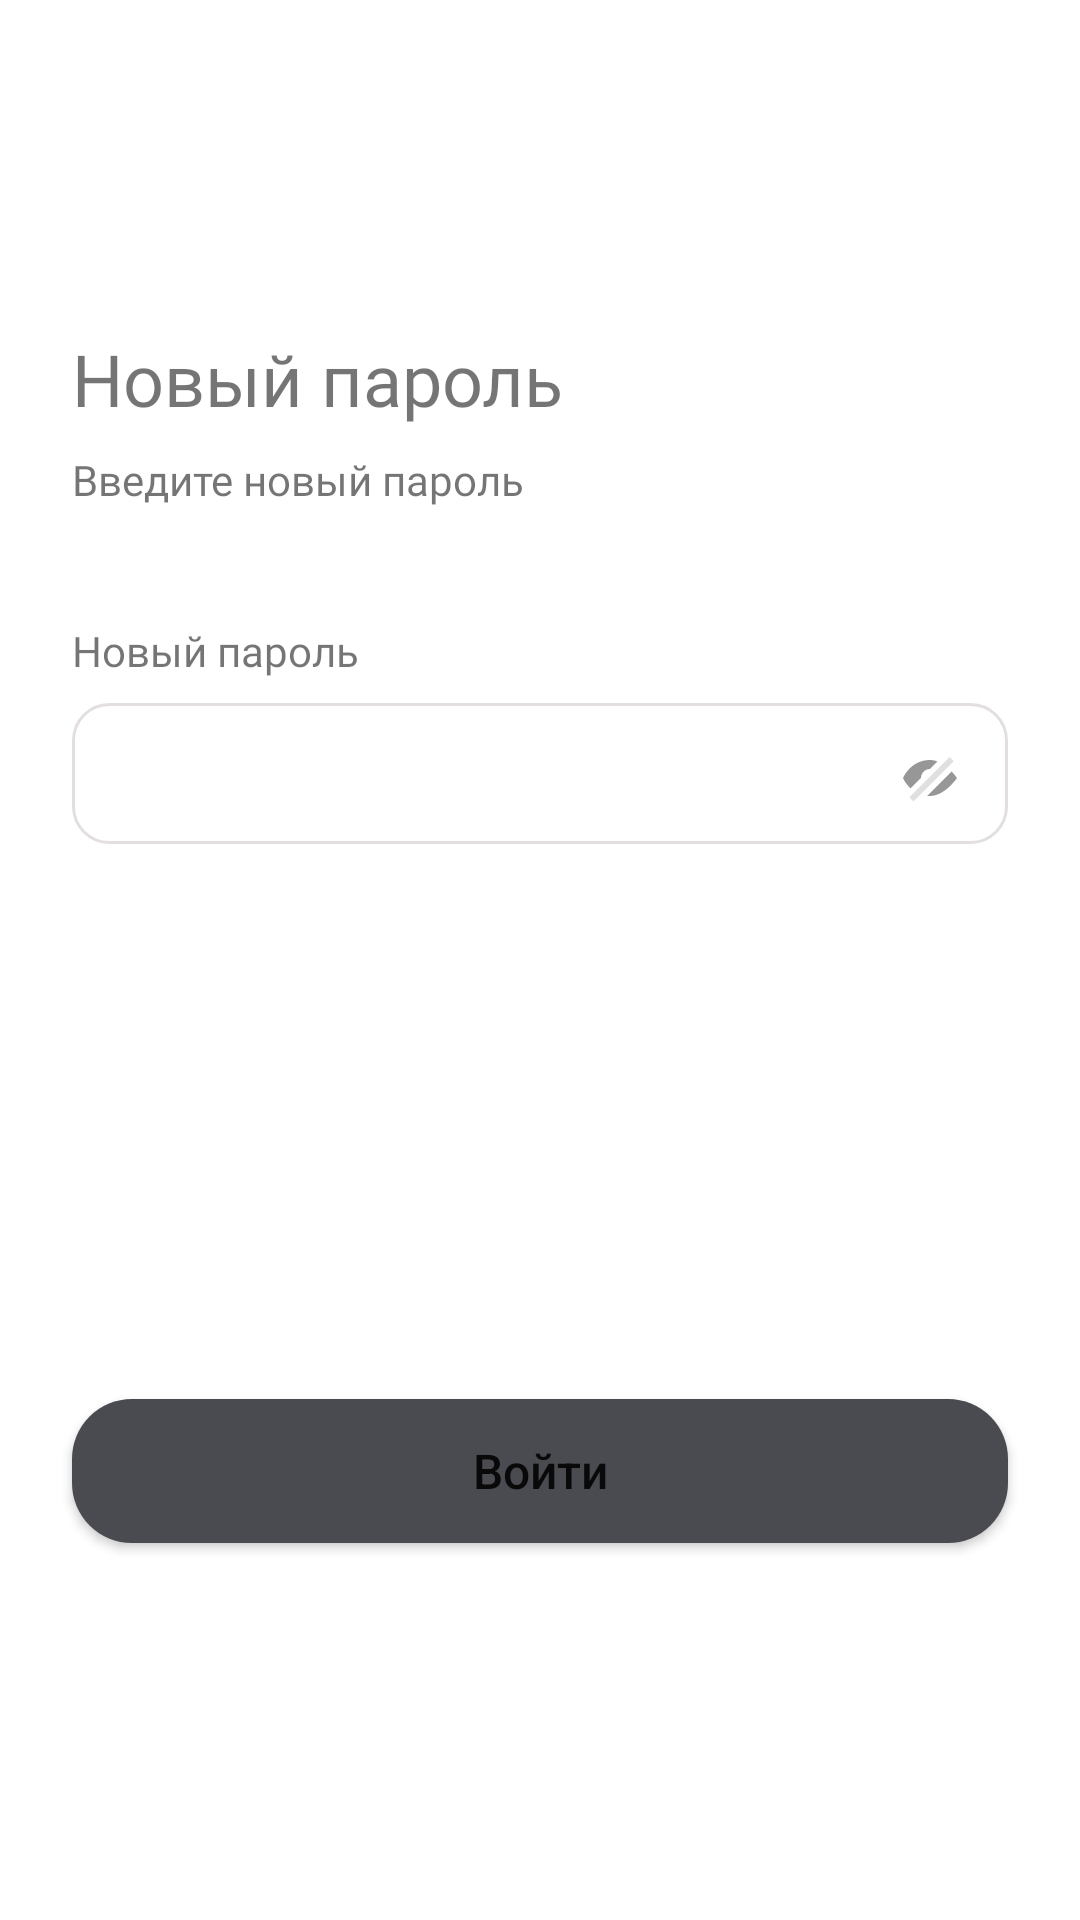

Where icons sit on this 1080*1920 app screen, as {"x1": x1, "y1": y1, "x2": x2, "y2": y2}:
view pas: {"x1": 903, "y1": 758, "x2": 957, "y2": 801}
